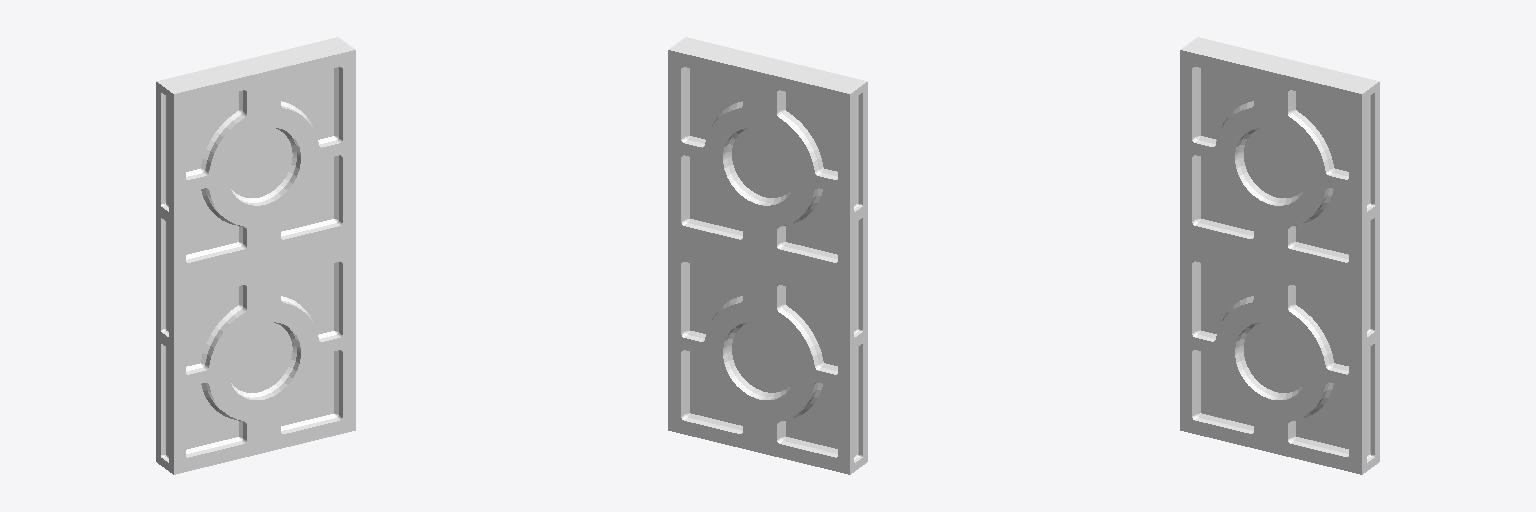
File: Wall.obj
The picture shows the model from 3 angles: view 1: azimuth 30°, elevation 25°; view 2: azimuth 150°, elevation 25°; view 3: azimuth 330°, elevation 25°; orthographic projection.
Parts seen in each view (by area): view 1: Box002; view 2: Box002; view 3: Box002.
Part boxes in pixels (x1,y1,x2,y2): Box002: (156,37,355,474); Box002: (668,37,867,474); Box002: (1180,37,1379,474).
Bounding box in the file's own units: 6 × 12 × 1.